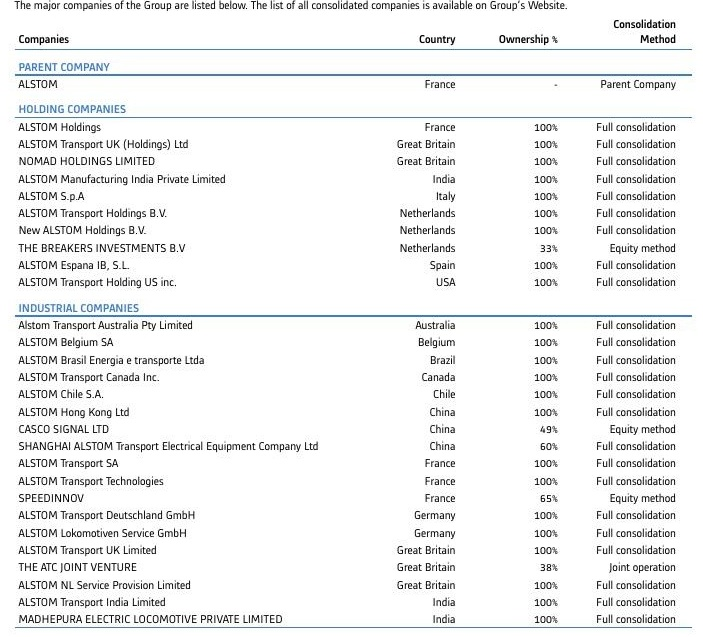table: (0, 0, 703, 637)
